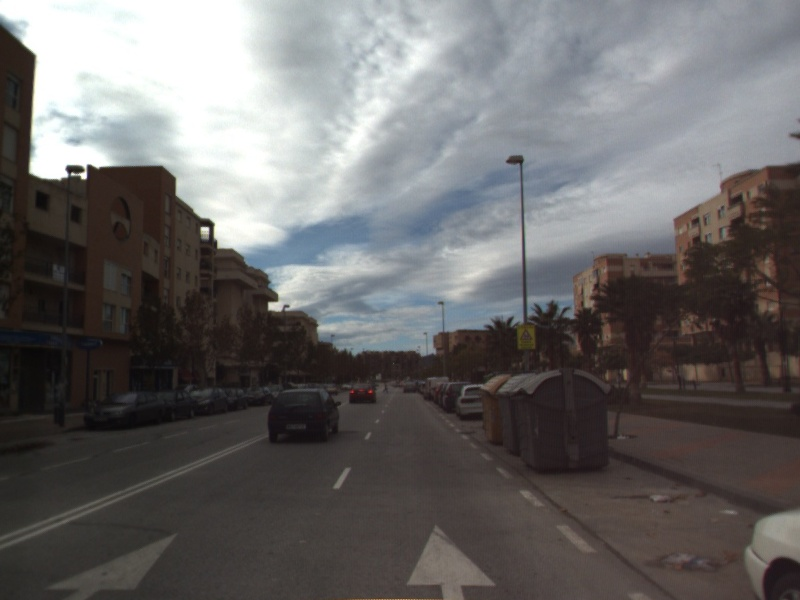STRAIGHT: (42, 531, 180, 600), (404, 522, 498, 600)
